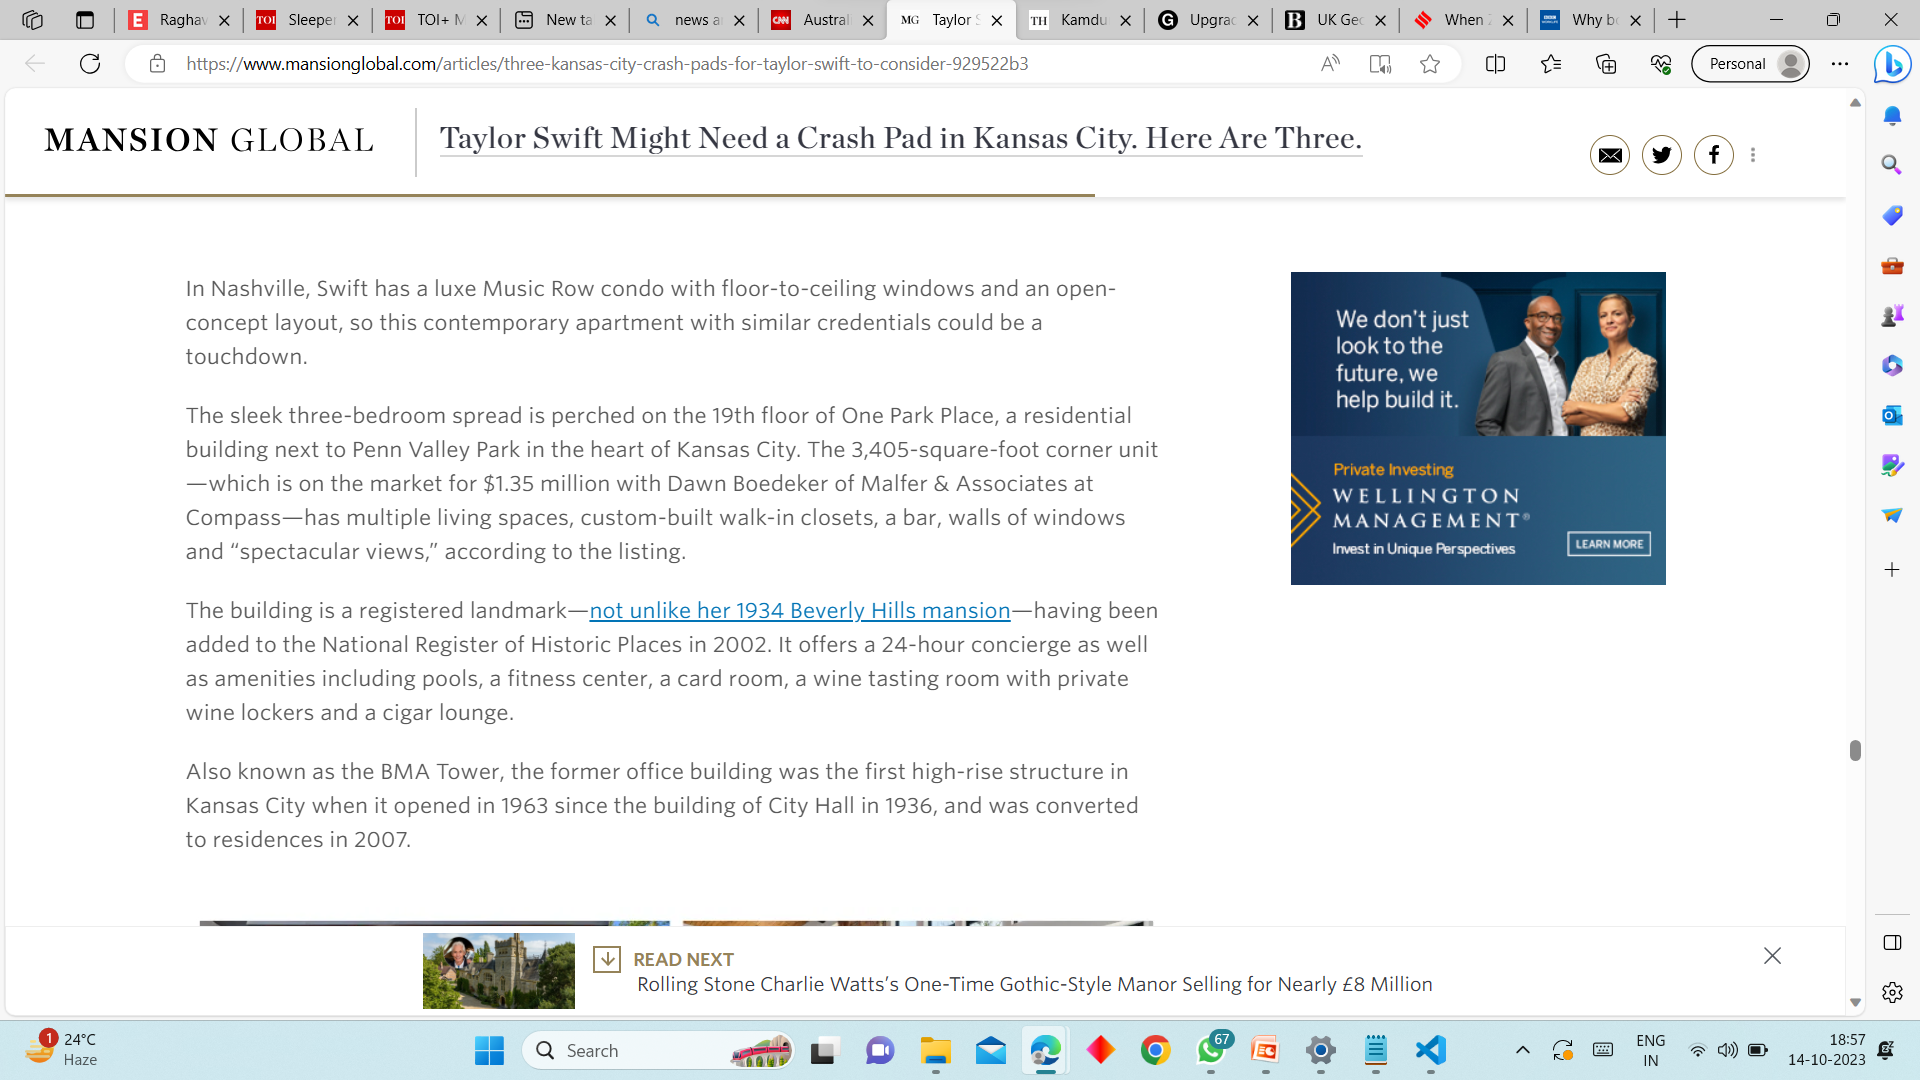Image: (1276, 260, 1675, 601), (392, 928, 1507, 1022), (1679, 107, 1733, 187), (1576, 119, 1627, 186), (1639, 121, 1681, 190), (1738, 129, 1768, 177)
Paragraph: (164, 389, 1164, 576), (179, 592, 1138, 738), (186, 752, 1160, 870), (170, 276, 1156, 378), (427, 100, 1420, 177), (9, 100, 409, 173)
